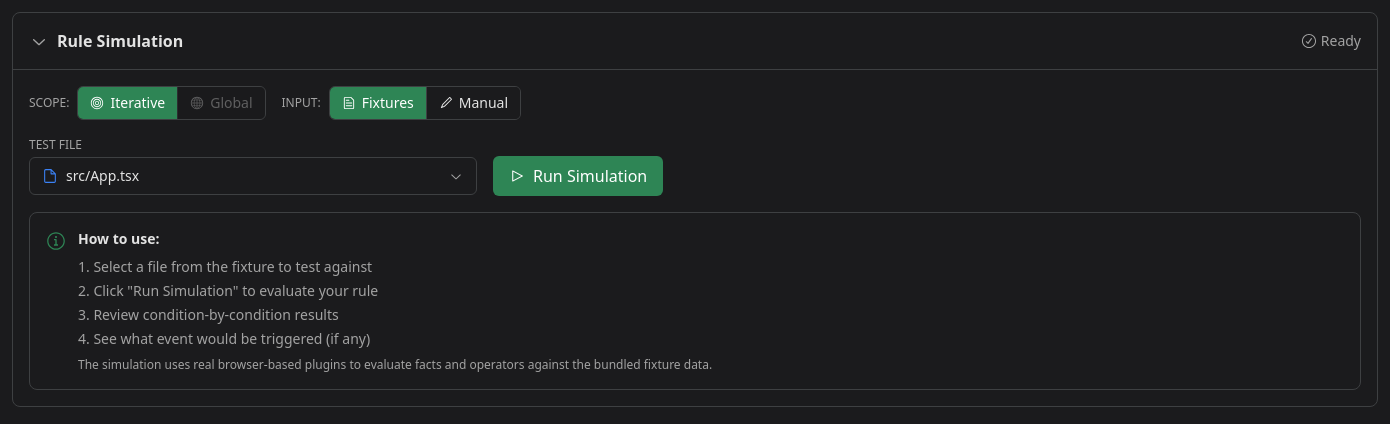
Scenario: Simulation Flow Integration › Error Handling › handles simulation errors gracefully
Click the button "Run Simulation" at (578, 176), box top-left (493, 156), bottom-right (663, 196)
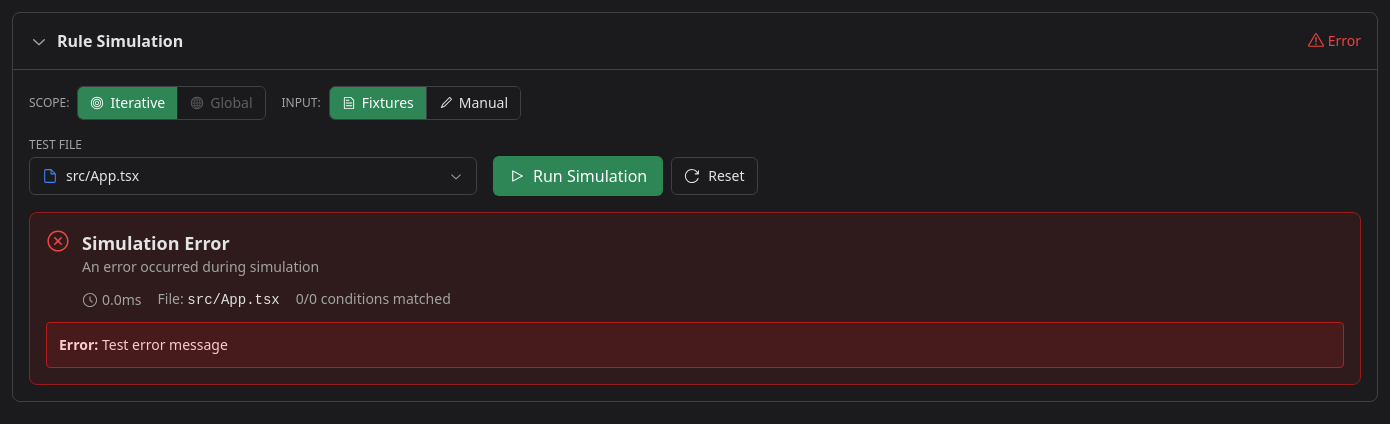
Expected: the text "Error: Test error message" is shown, top-left (59, 335), bottom-right (228, 354)
